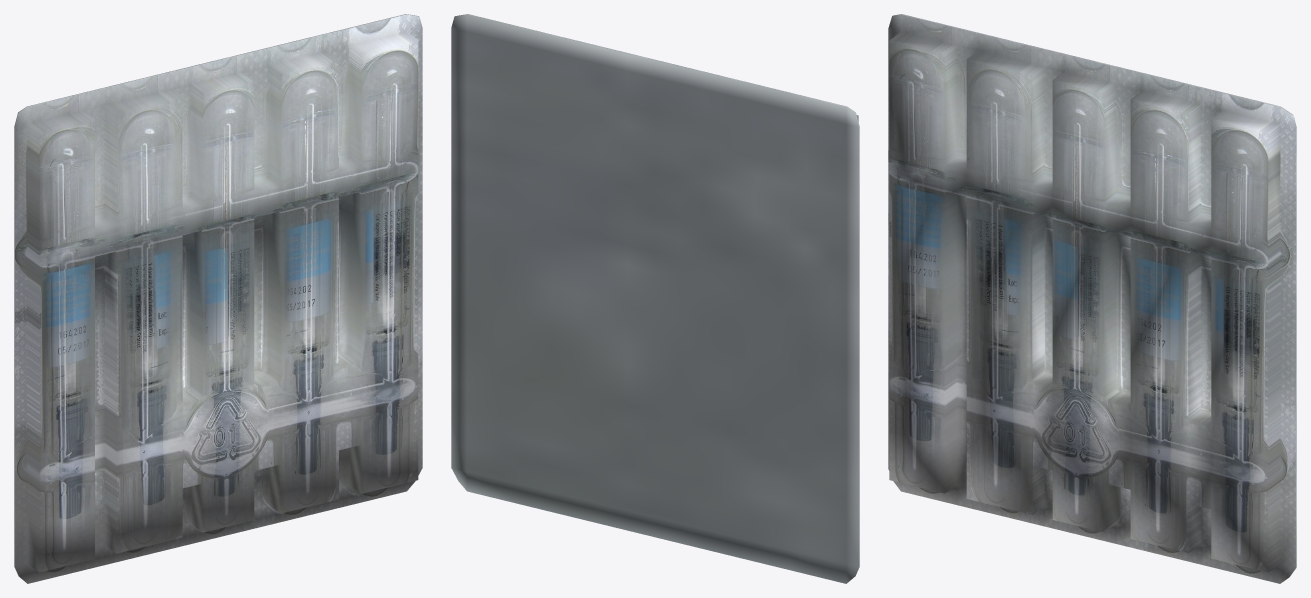
The picture shows the model from 3 angles, left to right: view 1: azimuth 30°, elevation 25°; view 2: azimuth 150°, elevation 25°; view 3: azimuth 330°, elevation 25°; orthographic projection.
Parts seen in each view (by area): view 1: 平面; view 2: 平面; view 3: 平面.
Boxes of the visible parts, box(x1,y1,x2,y2) form: 平面: box(14, 14, 422, 583); 平面: box(451, 14, 859, 583); 平面: box(888, 14, 1296, 583).
Size of the model in its own units: 625 by 698 by 32.76.
Materials: 1 (1 with a texture image).
